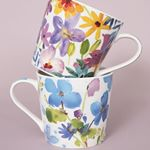cups: (7, 66, 123, 149), (29, 1, 149, 78)
